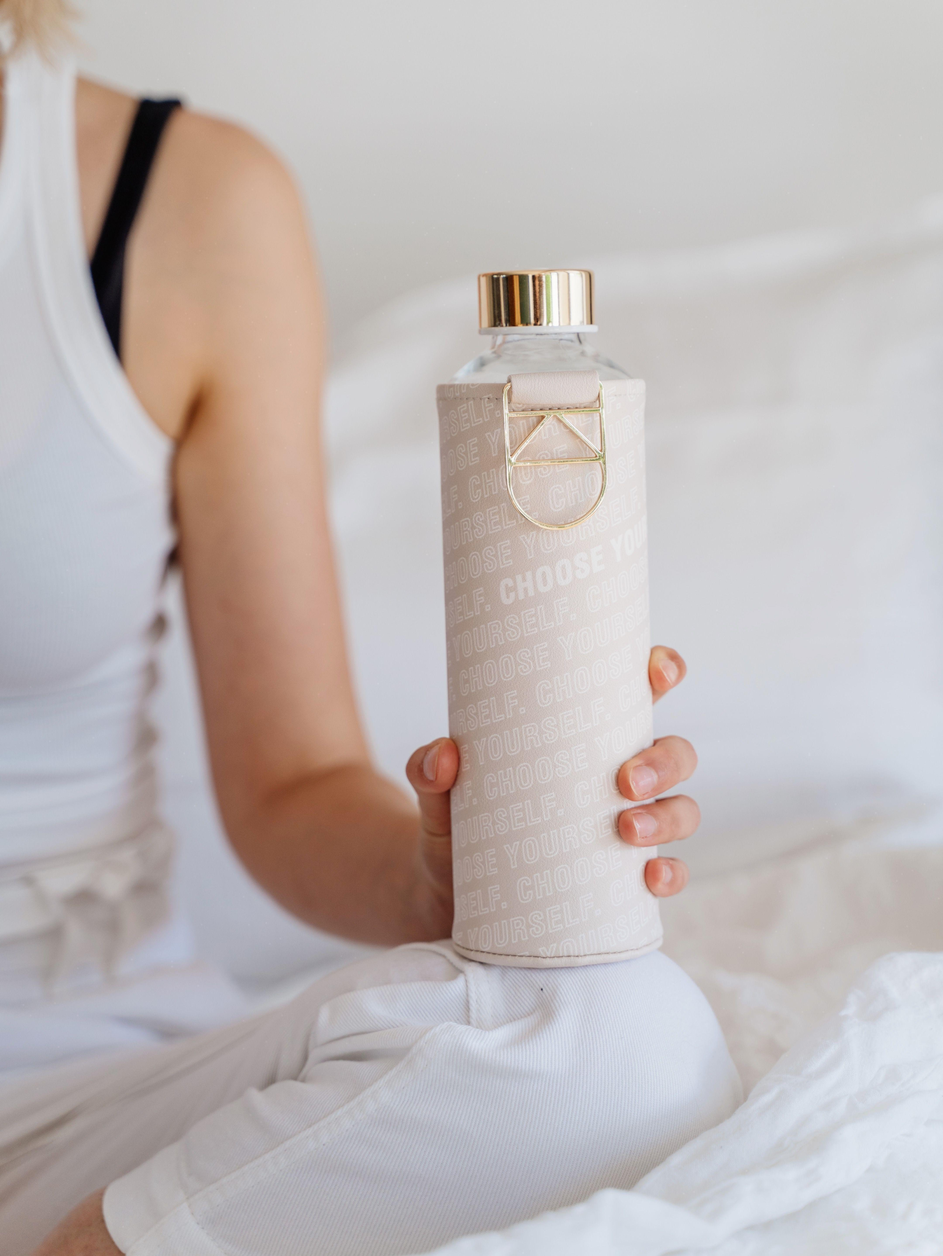gym bottle: (428, 255, 676, 974)
